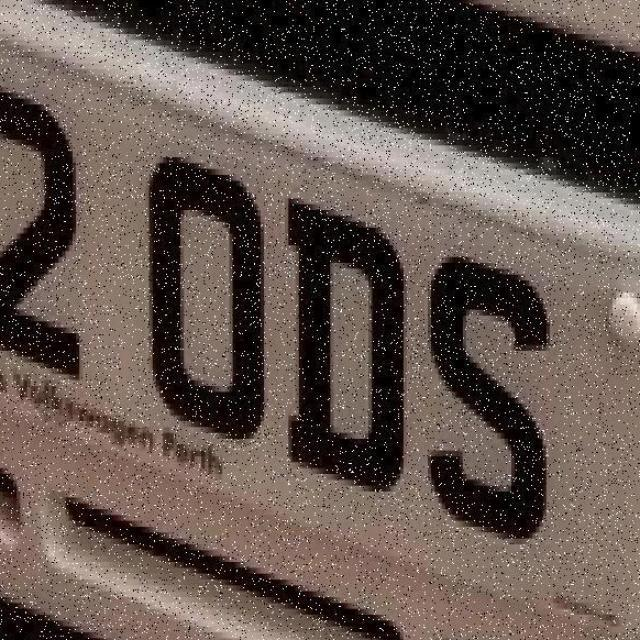license-plate: (0, 2, 640, 632)
